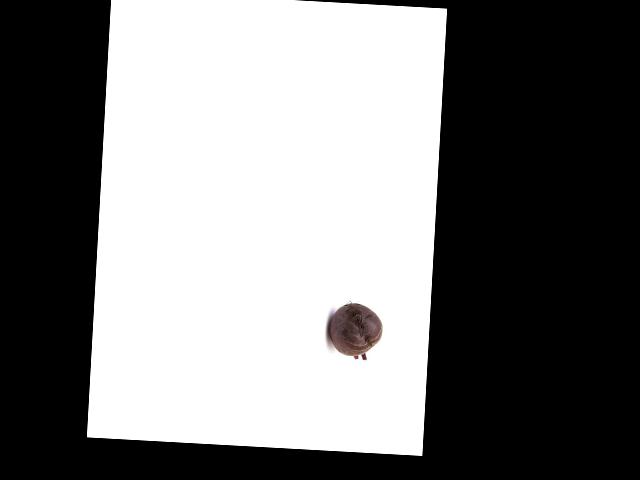beet: (326, 301, 384, 360)
